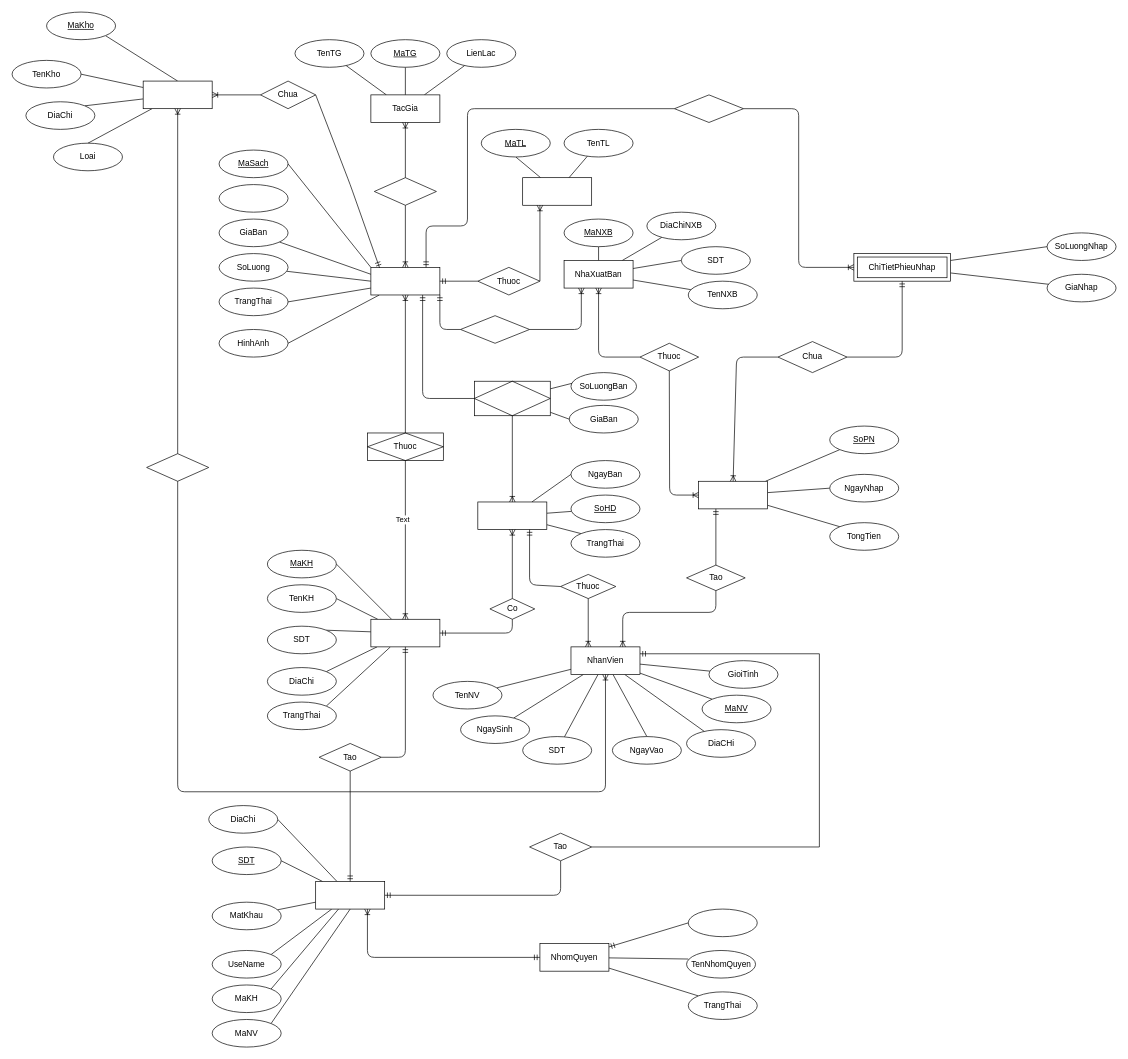
This 1128x1059 diagram has some shape labels left out. The shapes that lost their labels are listed below. From the top down, each one's centre as x and y in pixels, then its label:
At pixel 177 94: "KhoSach".
At pixel 708 108: "Nhan".
At pixel 253 198: "TenSach".
At pixel 405 191: "Viet".
At pixel 557 191: "TheLoai".
At pixel 405 281: "Sach".
At pixel 495 329: "Cua".
At pixel 512 398: "ChiTietHoaDon".
At pixel 177 467: "KiemTra".
At pixel 512 515: "HoaDon".
At pixel 733 495: "PhieuNhap".
At pixel 405 633: "KhachHang".
At pixel 350 895: "TaiKhoan".
At pixel 722 922: "MaNhomQuyen".
